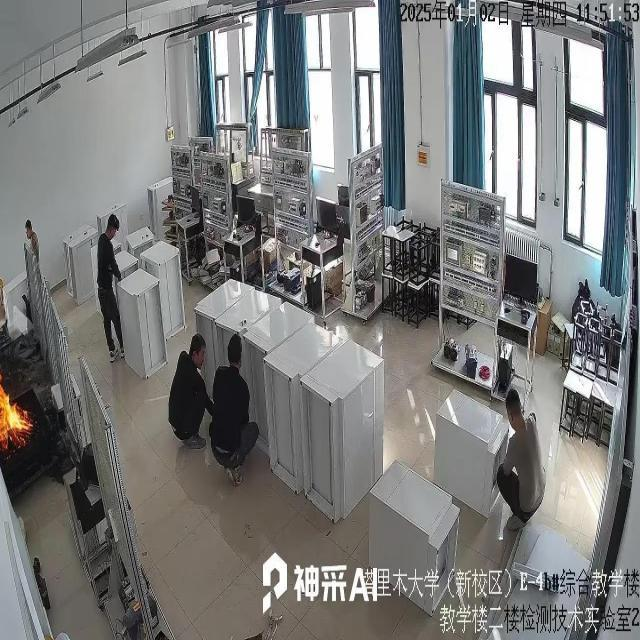smoke: (0, 364, 28, 444)
